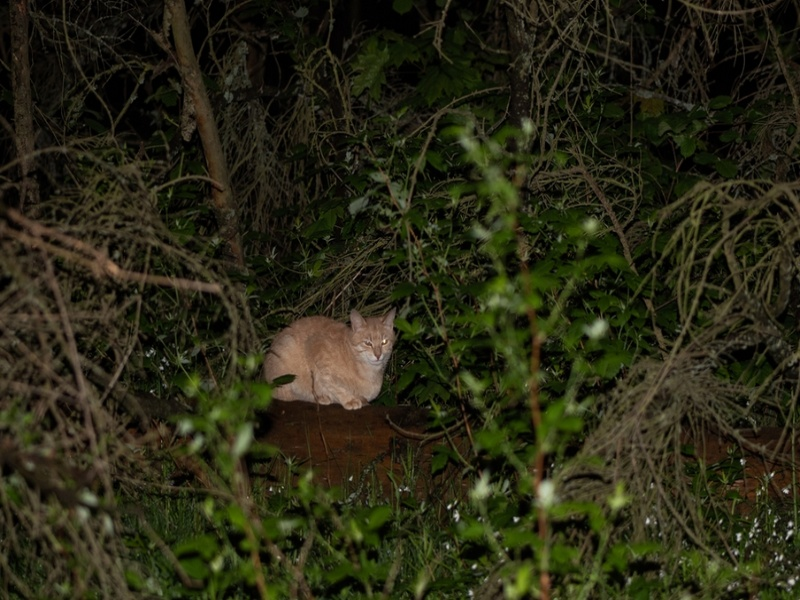cat: (263, 303, 400, 415)
